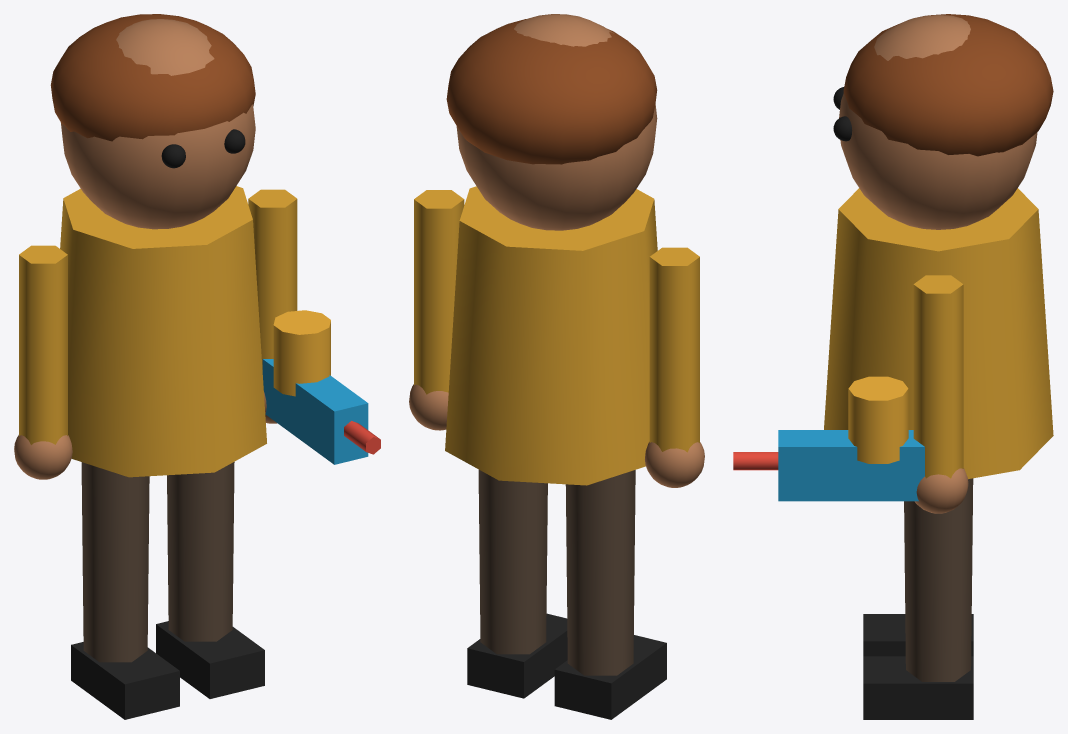
The model's file is kid_water_0.glb.
3 renders of one model, left to right at view 1: azimuth 30°, elevation 25°; view 2: azimuth 150°, elevation 25°; view 3: azimuth 270°, elevation 25°, orthographic. The views are drawn at different scales.
Visible parts, largest first — view 1: object 1, head, legL, armR, legR, armL; view 2: object 1, head, legL, legR, armL, armR; view 3: object 1, head, armR, legR, legL.
Boxes of the visible parts, box(x1,y1,x2,y2) form: object 1: box(60, 186, 266, 477); head: box(50, 14, 255, 229); legL: box(71, 462, 179, 719); armR: box(248, 189, 380, 464); legR: box(156, 462, 264, 698); armL: box(14, 245, 72, 479); object 1: box(445, 186, 657, 485); head: box(446, 14, 657, 230); legL: box(554, 470, 666, 719); legR: box(467, 470, 567, 698); armL: box(645, 247, 704, 487); armR: box(409, 190, 464, 430); object 1: box(824, 188, 1053, 479); head: box(833, 14, 1053, 229); armR: box(733, 275, 968, 513); legR: box(863, 478, 973, 719); legL: box(863, 614, 973, 656).
Bounding box in the file's own units: 0.66 × 1.46 × 0.64.
